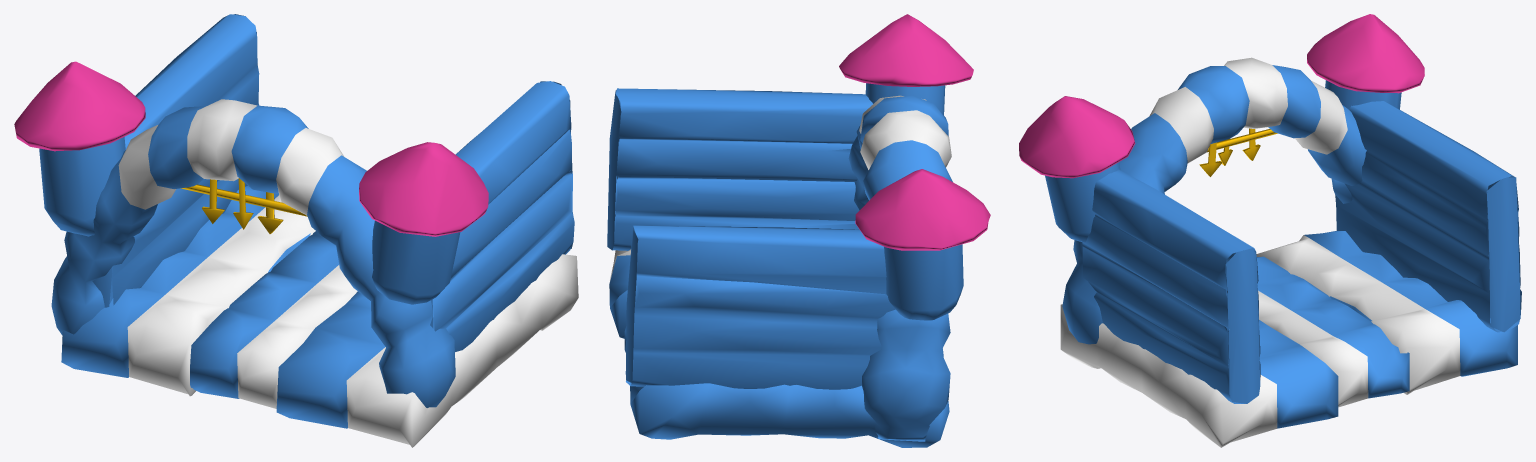
File: castel_inflactable_LOD1.fbx
The picture shows the model from 3 angles, left to right: view 1: azimuth 30°, elevation 25°; view 2: azimuth 150°, elevation 25°; view 3: azimuth 270°, elevation 25°; orthographic projection. The views are drawn at different scales.
Visible parts, largest first — view 1: arc.001, Gonfiabile.002, Cube.019, Cube.021, Cube.020, Gonfiabile.004, Cone.004, Cone.003, Cylinder.004, Cylinder.003, Arrow 4.007; view 2: Gonfiabile.004, Gonfiabile.002, arc.001, Cube.019, Cone.003, Cone.004, Cylinder.003, Cube.021, Cylinder.004; view 3: Gonfiabile.002, Gonfiabile.004, arc.001, Cube.019, Cube.021, Cube.020, Cone.004, Cone.003, Cylinder.004, Cylinder.003.
Boxes of the visible parts, box(x1,y1,x2,y2) form: arc.001: box(51, 99, 455, 407); Gonfiabile.002: box(430, 81, 574, 351); Cube.019: box(61, 185, 315, 396); Cube.021: box(276, 254, 578, 447); Cube.020: box(190, 231, 357, 408); Gonfiabile.004: box(92, 14, 259, 307); Cone.004: box(359, 142, 488, 236); Cone.003: box(14, 61, 145, 151); Cylinder.004: box(372, 220, 460, 304); Cylinder.003: box(39, 137, 125, 236); Arrow 4.007: box(181, 184, 307, 216); Gonfiabile.004: box(625, 225, 895, 389); Gonfiabile.002: box(607, 88, 872, 250); arc.001: box(848, 95, 952, 441); Cube.019: box(630, 383, 949, 447); Cone.003: box(855, 169, 990, 250); Cone.004: box(839, 14, 973, 86); Cylinder.003: box(884, 244, 963, 320); Cube.021: box(609, 249, 630, 338); Cylinder.004: box(865, 83, 945, 114); Gonfiabile.002: box(1082, 169, 1260, 403); Gonfiabile.004: box(1335, 101, 1521, 332); arc.001: box(1062, 57, 1366, 344); Cube.019: box(1256, 231, 1517, 394); Cube.021: box(1060, 304, 1338, 447); Cube.020: box(1257, 256, 1409, 407); Cone.004: box(1019, 96, 1135, 178); Cone.003: box(1307, 14, 1424, 93); Cylinder.004: box(1045, 162, 1120, 242); Cylinder.003: box(1325, 80, 1401, 109).
Bounding box in the file's own units: 1077 × 668 × 1100.
